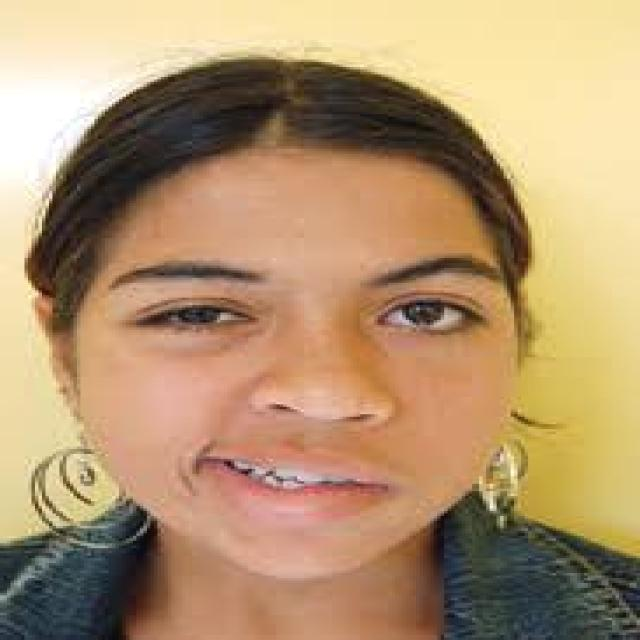stroke_face: (41, 44, 529, 584)
